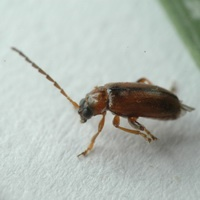insect: (11, 47, 194, 156)
